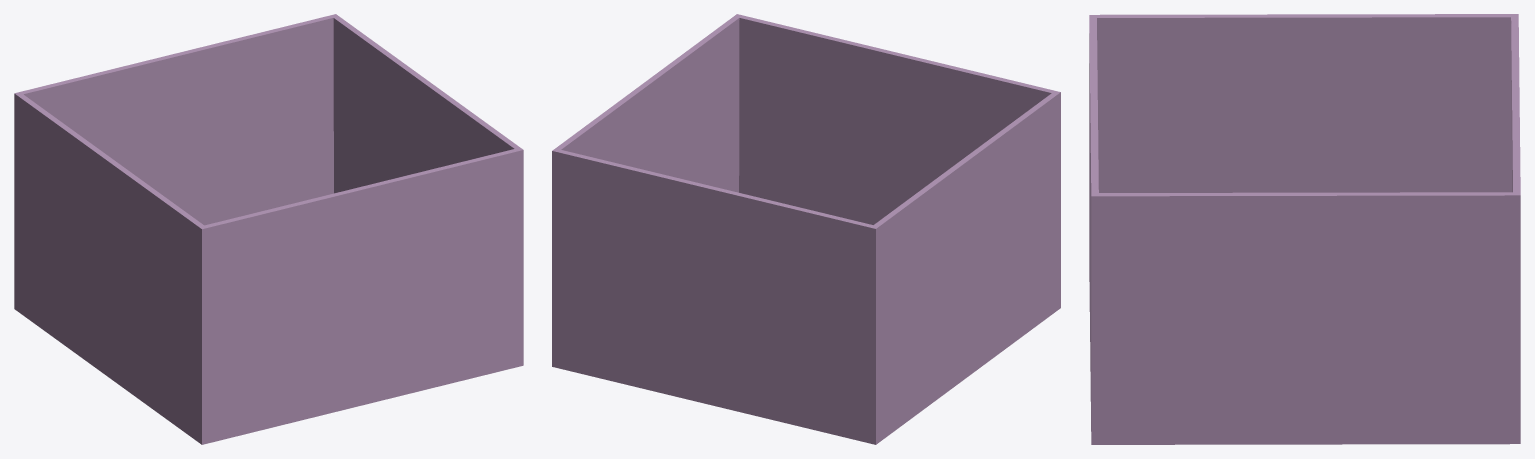
File: throw_box.dae
The picture shows the model from 3 angles, left to right: view 1: azimuth 30°, elevation 25°; view 2: azimuth 150°, elevation 25°; view 3: azimuth 270°, elevation 25°; orthographic projection. The views are drawn at different scales.
Parts seen in each view (by area): view 1: PinkToyTrashbin_mesh; view 2: PinkToyTrashbin_mesh; view 3: PinkToyTrashbin_mesh.
Boxes of the visible parts, x1,y1,x2,y2 form: PinkToyTrashbin_mesh: [14, 14, 523, 444]; PinkToyTrashbin_mesh: [552, 14, 1060, 444]; PinkToyTrashbin_mesh: [1089, 14, 1520, 444].
Size of the model in its own units: 0.2783 by 0.2783 by 0.177.
